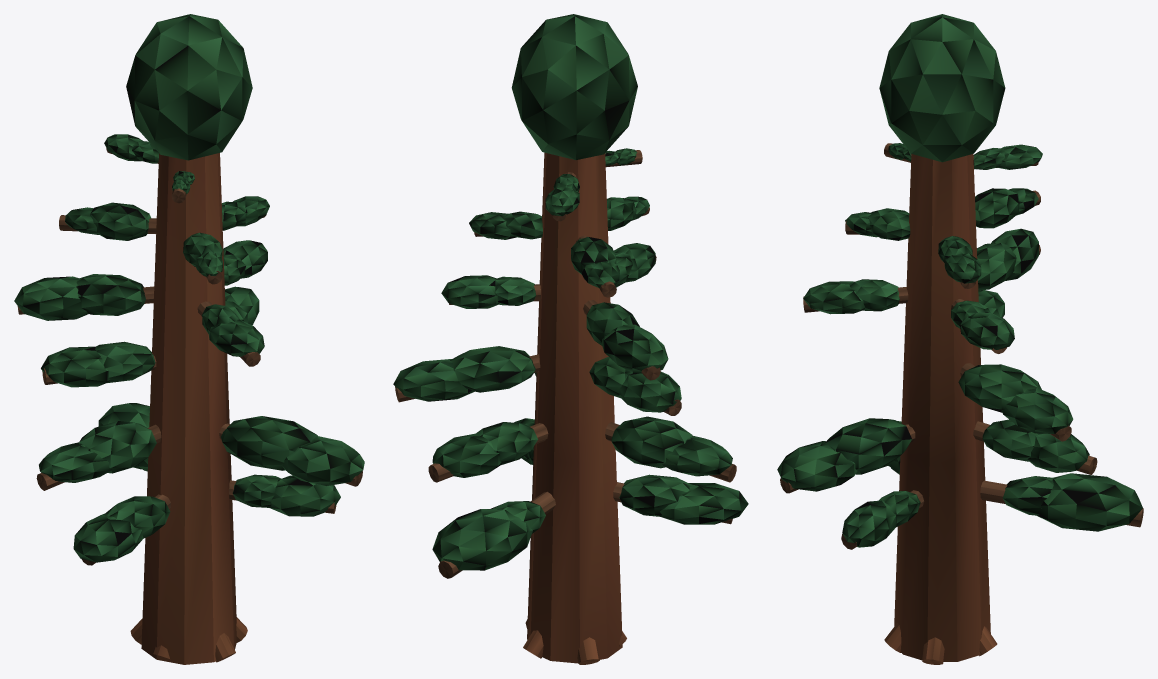
The model's file is standard-lod1.glb.
3 renders of one model, left to right at view 1: azimuth 30°, elevation 25°; view 2: azimuth 150°, elevation 25°; view 3: azimuth 270°, elevation 25°, orthographic.
Parts seen in each view (by area): view 1: pine-trunk-branches-needles; view 2: pine-trunk-branches-needles; view 3: pine-trunk-branches-needles.
Boxes of the visible parts, box(x1,y1,x2,y2) form: pine-trunk-branches-needles: box(14, 14, 364, 664); pine-trunk-branches-needles: box(393, 14, 748, 664); pine-trunk-branches-needles: box(777, 14, 1143, 664).
Bounding box in the file's own units: 9.04 × 19.75 × 10.42.
